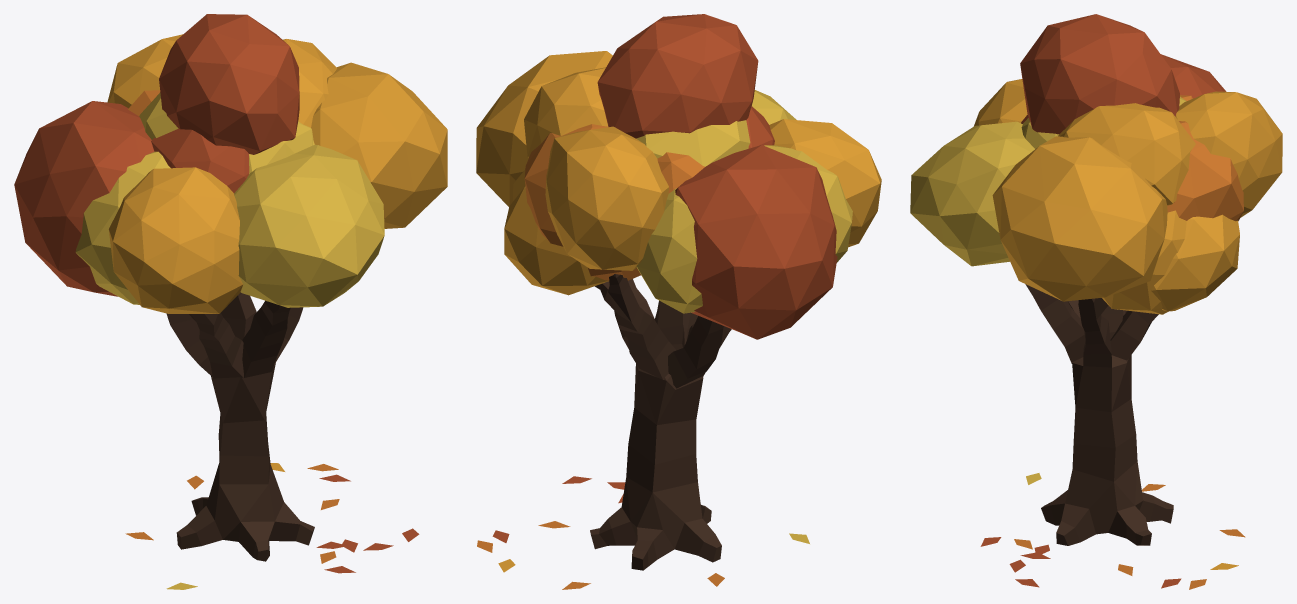
Rendered from SM_Tree_Oak_Autumn_05.glb.
3 views of the same model, side by side, from view 1: azimuth 30°, elevation 25°; view 2: azimuth 150°, elevation 25°; view 3: azimuth 270°, elevation 25° (orthographic). The views are drawn at different scales.
Parts seen in each view (by area): view 1: SM_Tree_Oak_Autumn_05; view 2: SM_Tree_Oak_Autumn_05; view 3: SM_Tree_Oak_Autumn_05.
Boxes of the visible parts, x1,y1,x2,y2 form: SM_Tree_Oak_Autumn_05: (14,14,447,589); SM_Tree_Oak_Autumn_05: (476,14,881,589); SM_Tree_Oak_Autumn_05: (910,14,1282,589).
Size of the model in its own units: 3.56 by 4.82 by 3.3.
